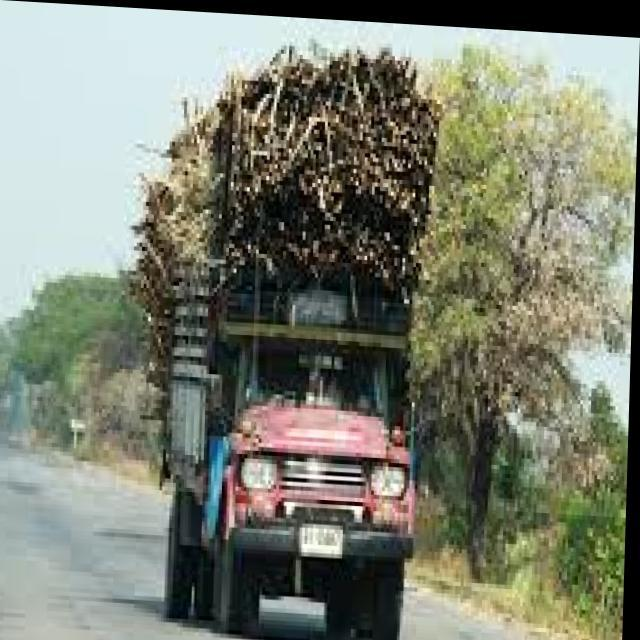uncovered: (137, 43, 436, 640)
